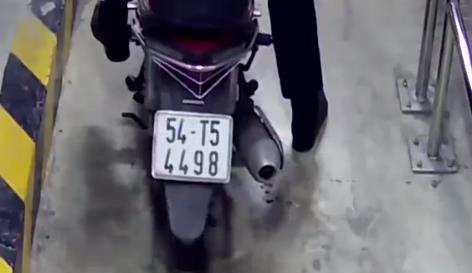lisence: (151, 109, 234, 184)
